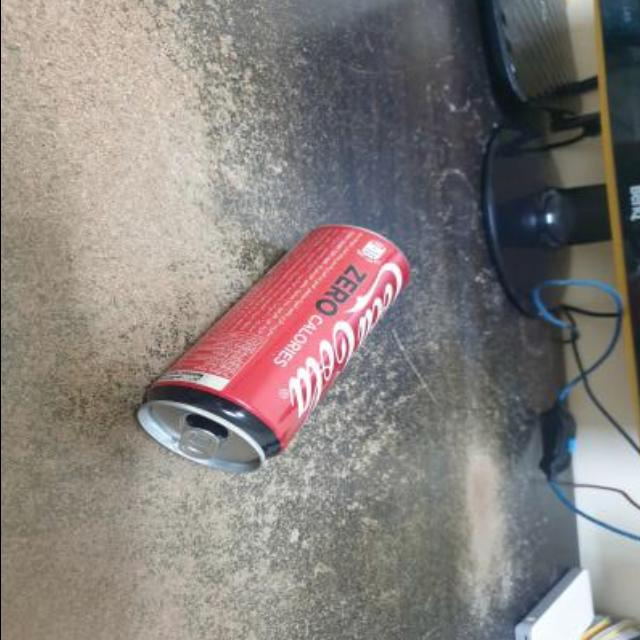metal: (140, 224, 410, 470)
